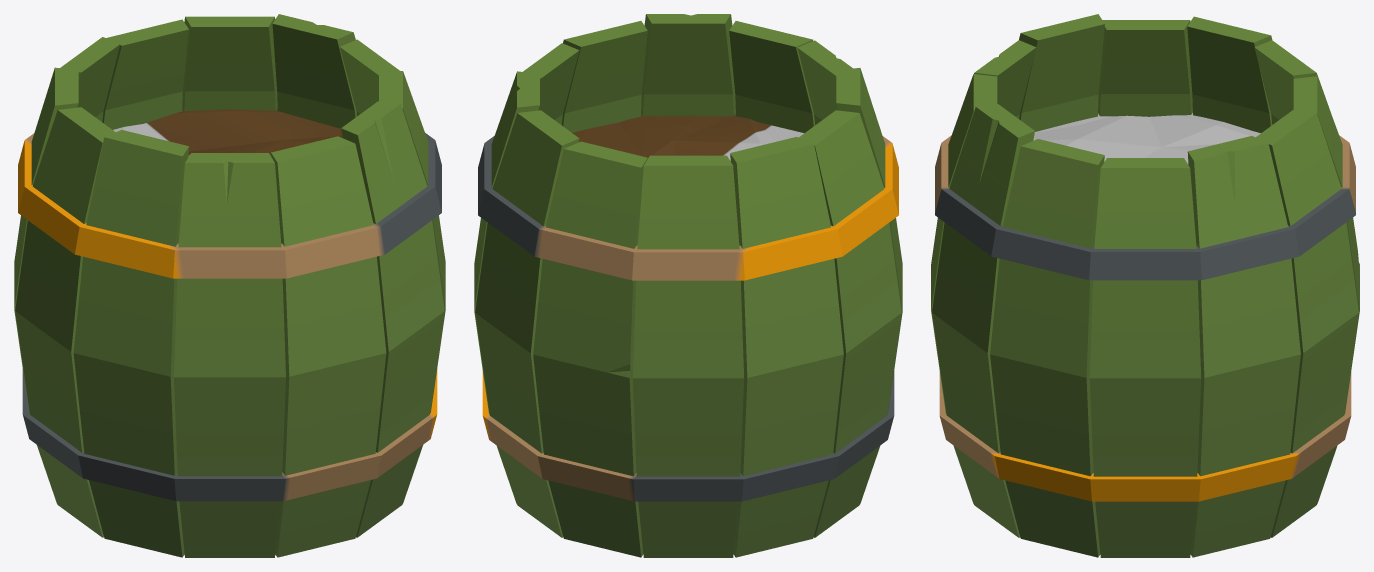
File: Barrel_04.fbx
The picture shows the model from 3 angles, left to right: view 1: azimuth 30°, elevation 25°; view 2: azimuth 150°, elevation 25°; view 3: azimuth 270°, elevation 25°; orthographic projection.
Visible parts, largest first — view 1: Barrel_04; view 2: Barrel_04; view 3: Barrel_04.
Boxes of the visible parts, x1,y1,x2,y2 form: Barrel_04: (14,14,445,557); Barrel_04: (474,14,902,557); Barrel_04: (931,14,1359,557).
Bounding box in the file's own units: 0.7488 × 0.7693 × 0.7488.
